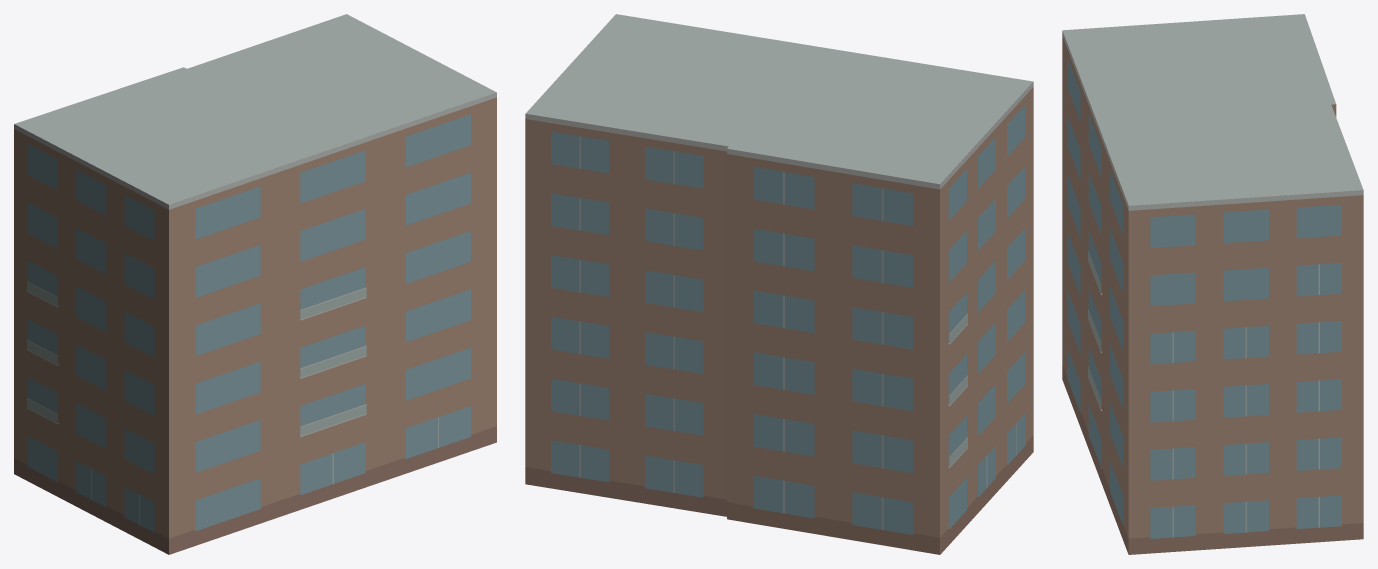
Rendered from survey-upis-32746683.glb.
The picture shows the model from 3 angles, left to right: view 1: azimuth 30°, elevation 25°; view 2: azimuth 150°, elevation 25°; view 3: azimuth 270°, elevation 25°; orthographic projection. The views are drawn at different scales.
Parts seen in each view (by area): view 1: survey-upis-32746683.tmp; view 2: survey-upis-32746683.tmp; view 3: survey-upis-32746683.tmp.
Boxes of the visible parts, x1,y1,x2,y2 form: survey-upis-32746683.tmp: (14, 14, 496, 554); survey-upis-32746683.tmp: (525, 14, 1033, 554); survey-upis-32746683.tmp: (1062, 14, 1363, 554).
Bounding box in the file's own units: 20.29 × 17.2 × 13.47.
